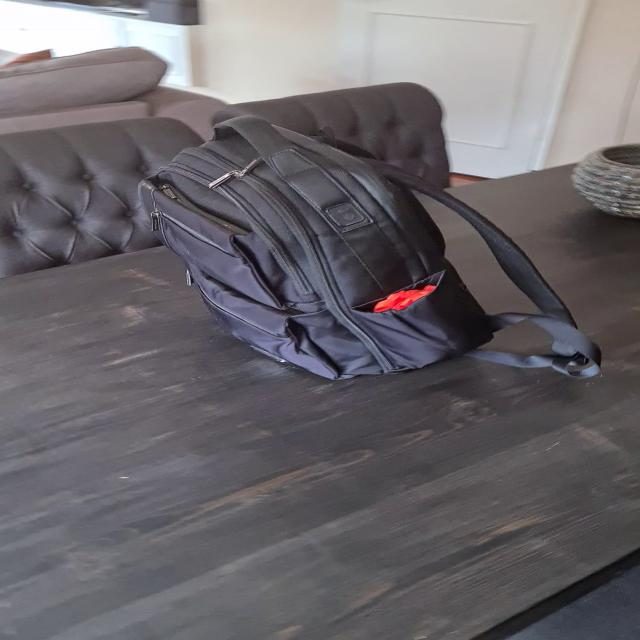backpack: (139, 113, 506, 390)
